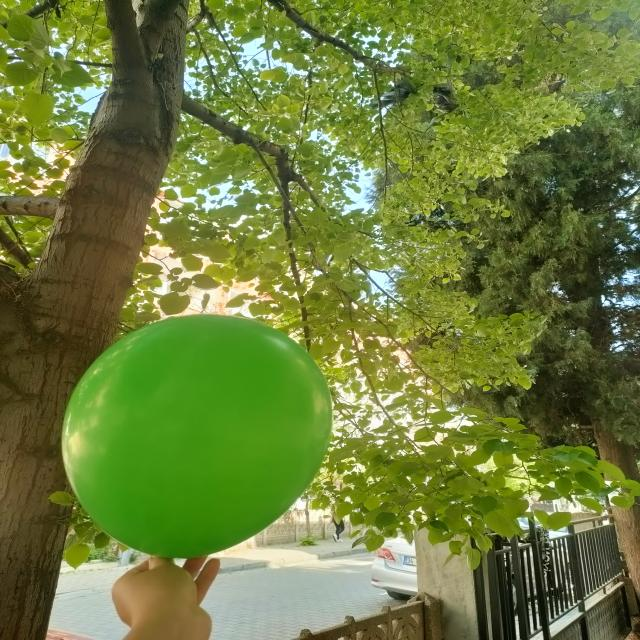green: (64, 315, 334, 558)
